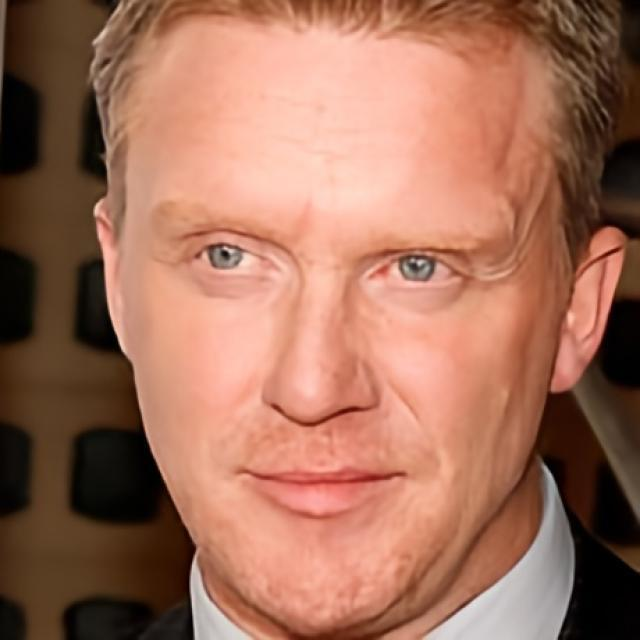content: (128, 28, 549, 640)
